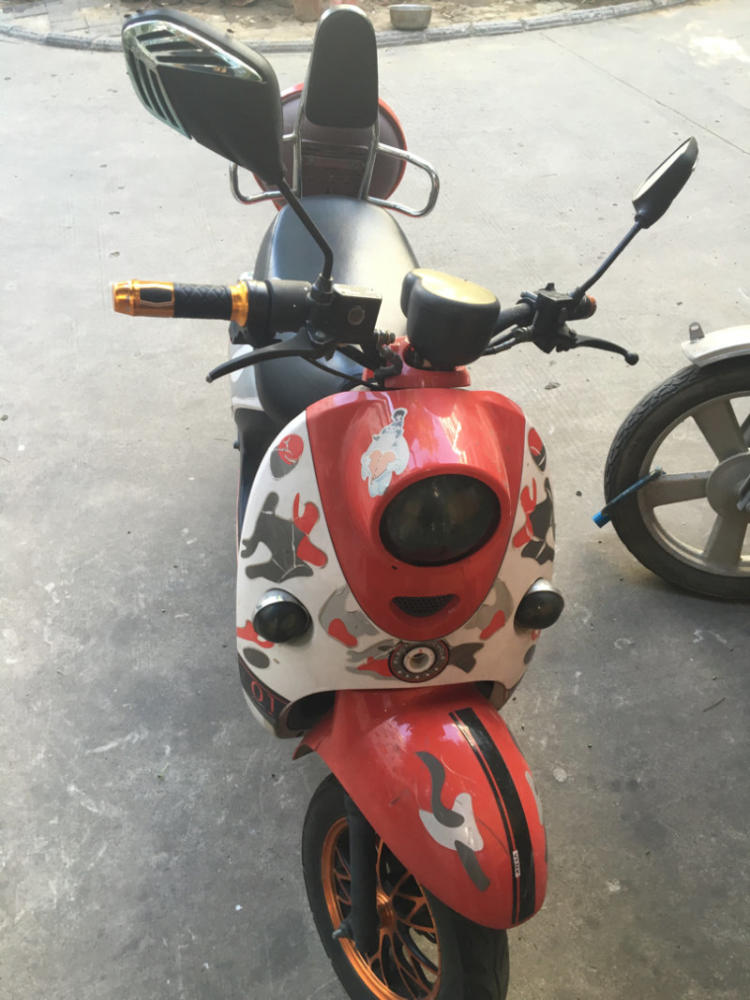电动车: (96, 7, 708, 1000)
